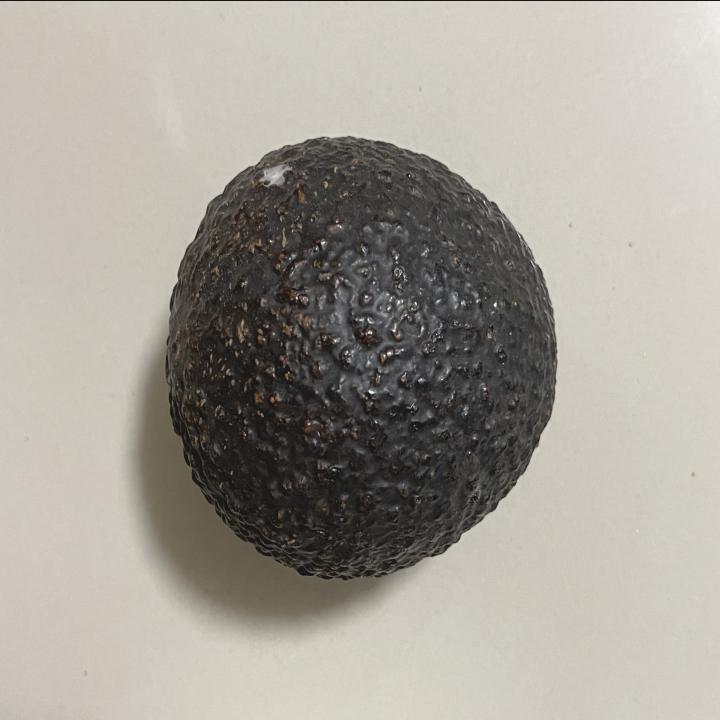Level2: (158, 123, 566, 589)
